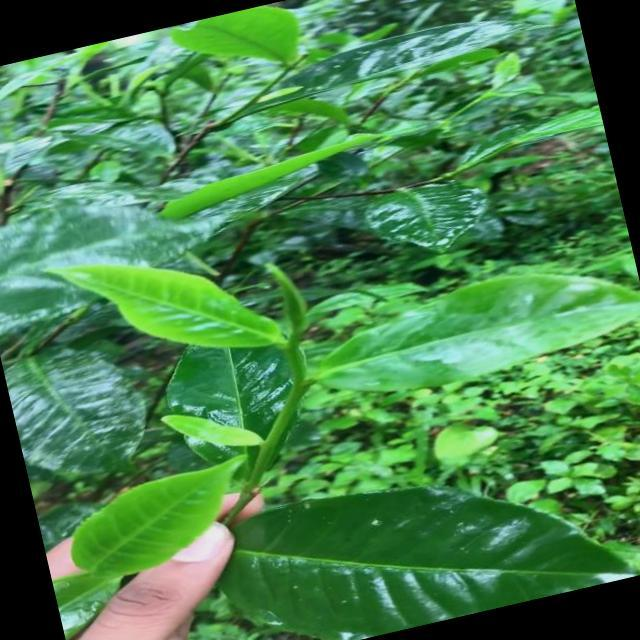Stem: (288, 341, 297, 352)
